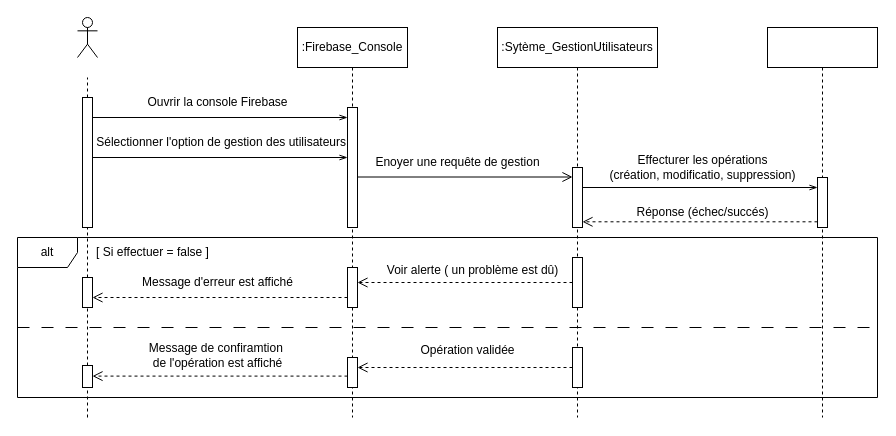
Some shapes in this 896 by 436 pixel diagram are drawn without their labels. The shapes that lost their labels are listed below. From the top down, each one's box as (x1, y1, x2, y2) in pixels, then its label:
(76, 16, 98, 58): Administrateur Technique
(766, 26, 878, 418): :Base_de_données
